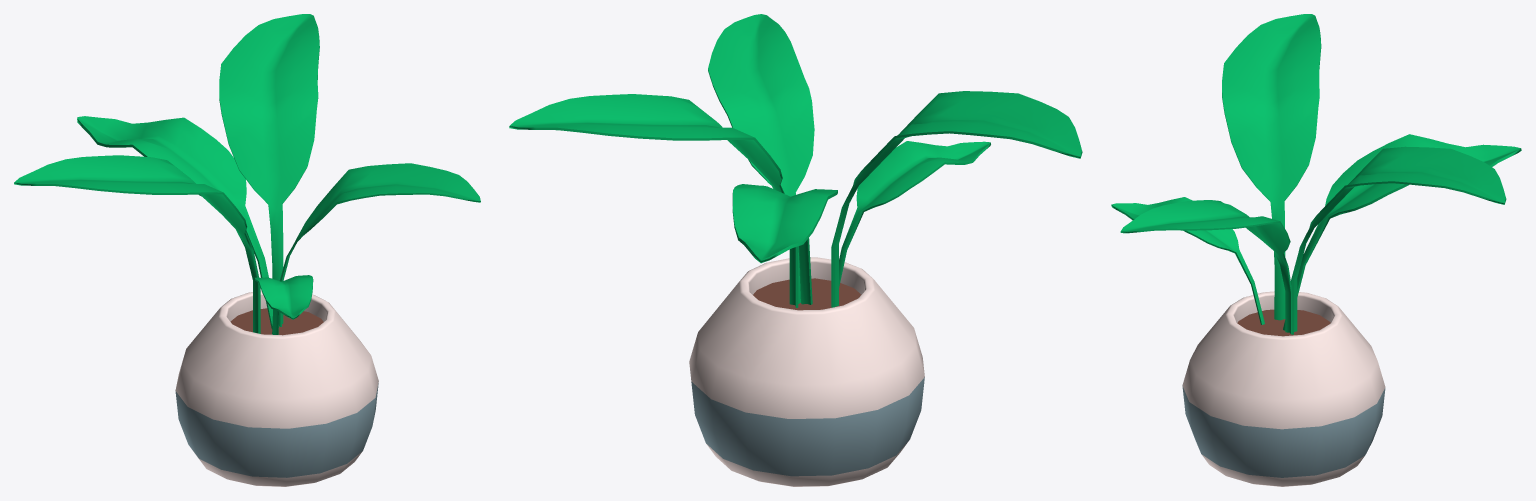
Rendered from Store_6_Plant_3.glb.
3 renders of one model, left to right at view 1: azimuth 30°, elevation 25°; view 2: azimuth 150°, elevation 25°; view 3: azimuth 270°, elevation 25°, orthographic. The views are drawn at different scales.
Visible parts, largest first — view 1: Store_6_Plant_3; view 2: Store_6_Plant_3; view 3: Store_6_Plant_3.
Boxes of the visible parts, x1,y1,x2,y2 form: Store_6_Plant_3: (14,14,480,486); Store_6_Plant_3: (509,14,1082,486); Store_6_Plant_3: (1111,14,1521,486).
Bounding box in the file's own units: 1.48 × 1.19 × 1.35.
1 material, 1 textured.
